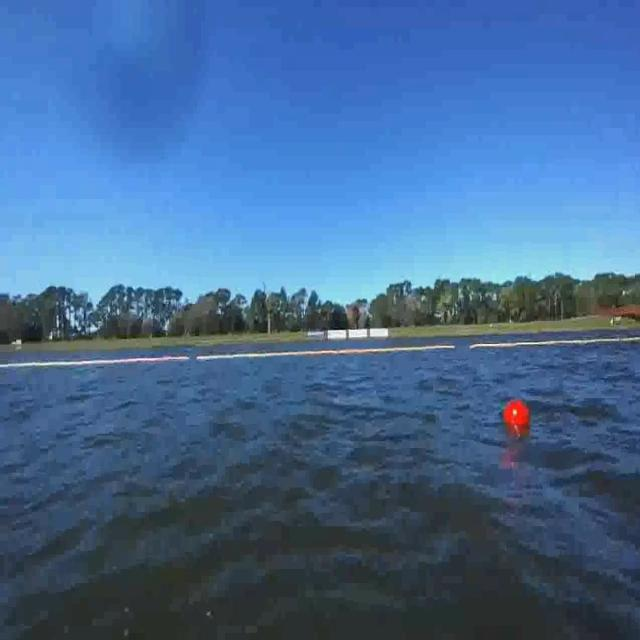red-buoy: (503, 402, 527, 427)
